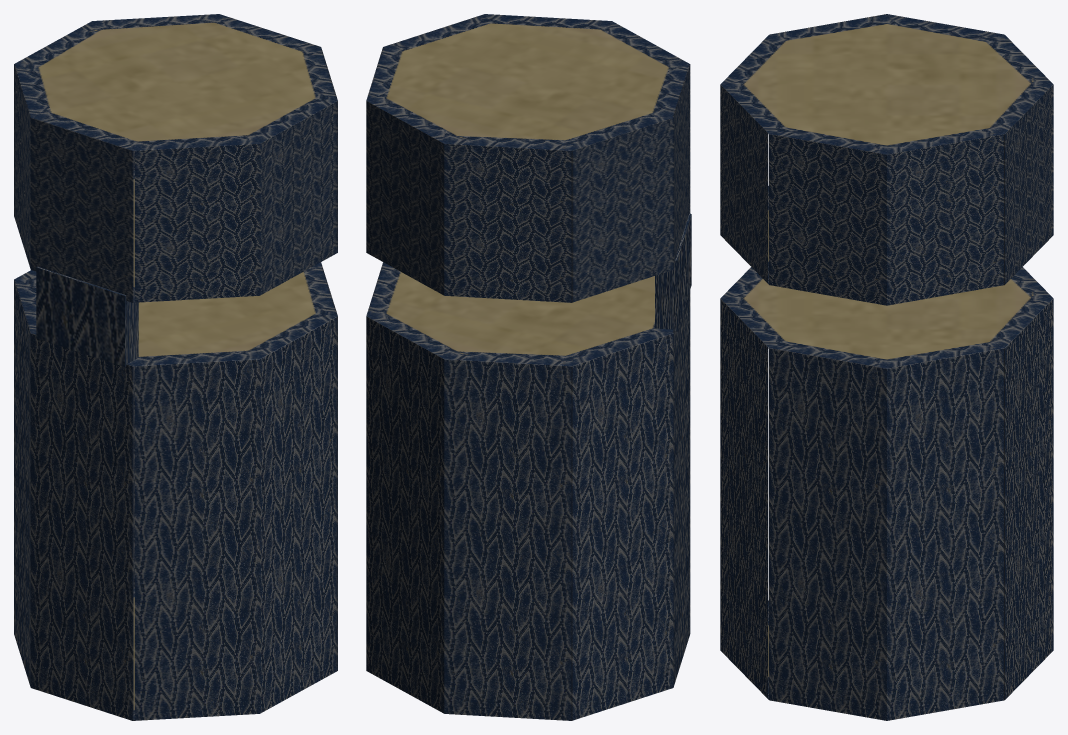
Rendered from ashtray.fbx.
3 renders of one model, left to right at view 1: azimuth 30°, elevation 25°; view 2: azimuth 150°, elevation 25°; view 3: azimuth 270°, elevation 25°, orthographic.
Parts seen in each view (by area): view 1: Cube; view 2: Cube; view 3: Cube.
Part boxes in pixels (x1,y1,x2,y2): Cube: (14, 14, 337, 720); Cube: (366, 14, 691, 720); Cube: (720, 14, 1053, 720).
Size of the model in its own units: 60 by 113 by 60.
2 materials, 2 textured.
